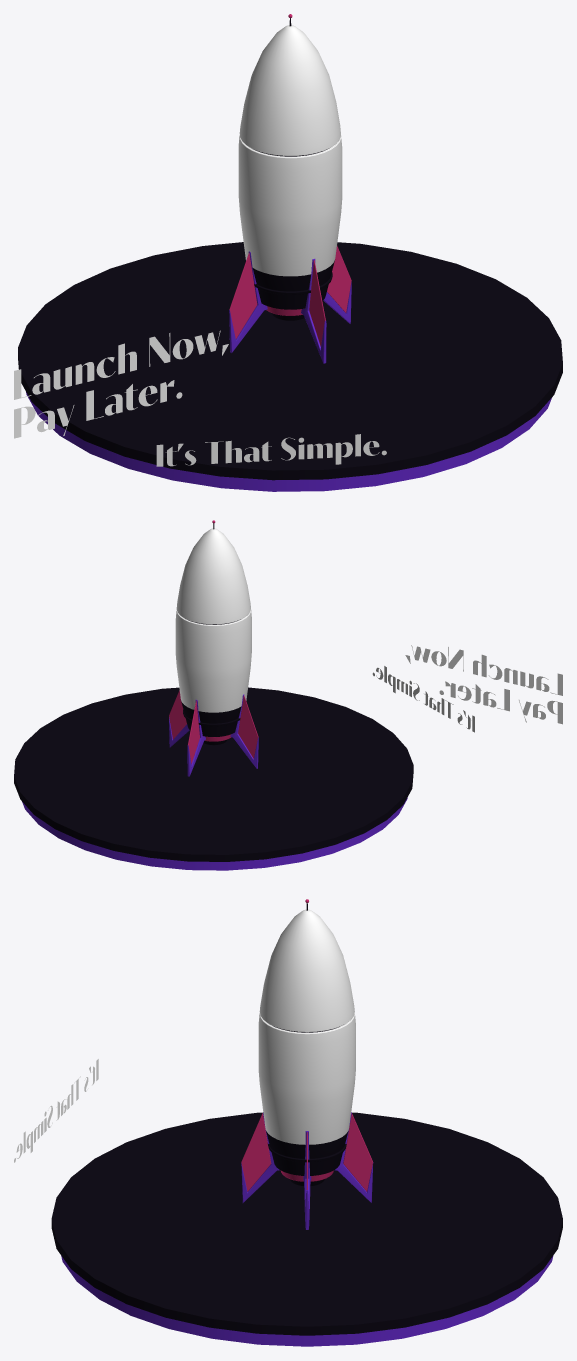
File: old_untitled.glb
3 renders of one model, top to bottom at view 1: azimuth 30°, elevation 25°; view 2: azimuth 150°, elevation 25°; view 3: azimuth 270°, elevation 25°, orthographic. The views are drawn at different scales.
Visible parts, largest first — view 1: Circle.001, body, Circle, Text, wing_inside, Text.001, wing_outside; view 2: Circle.001, body, Circle, Text, wing_inside, wing_outside, Text.001; view 3: Circle.001, body, Circle, wing_inside, wing_outside, Text.001.
Part boxes in pixels (x1,y1,x2,y2): Circle.001: (18,242,562,480); body: (238,14,342,320); Circle: (26,392,551,491); Text: (14,330,228,438); wing_inside: (229,245,351,346); Text.001: (156,434,386,466); wing_outside: (229,251,351,363); Circle.001: (14,687,413,861); body: (175,520,251,745); Circle: (22,797,407,870); Text: (405,645,562,724); wing_inside: (169,690,258,764); wing_outside: (169,694,258,776); Text.001: (372,666,474,732); Circle.001: (51,1112,562,1335); body: (258,899,355,1186); Circle: (61,1255,553,1346); wing_inside: (241,1113,372,1191); wing_outside: (241,1112,373,1229); Text.001: (14,1059,98,1162).
Size of the model in its own units: 26.56 by 15.12 by 22.01.
